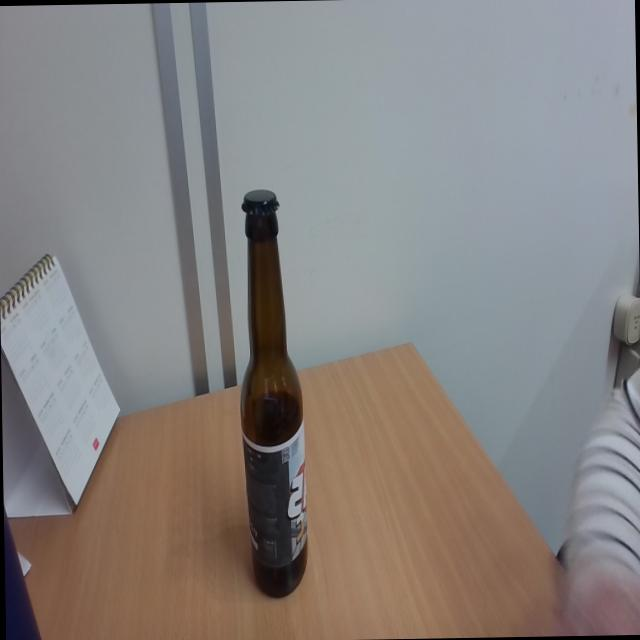Bottle: (236, 188, 310, 598)
Cap: (238, 186, 282, 222)
Label: (244, 431, 307, 572)
